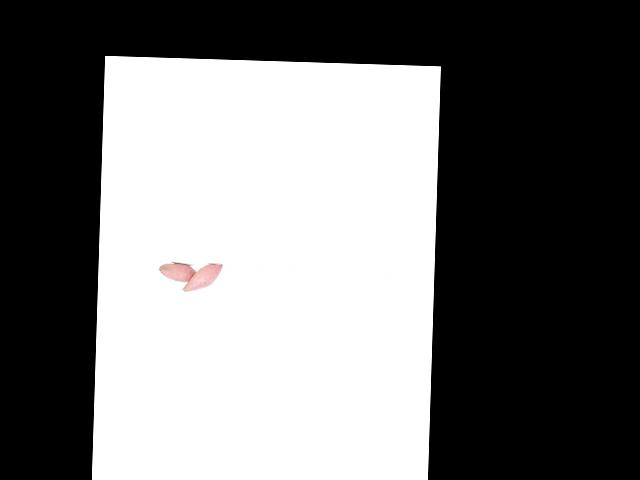sweet_potato: (157, 262, 199, 284)
